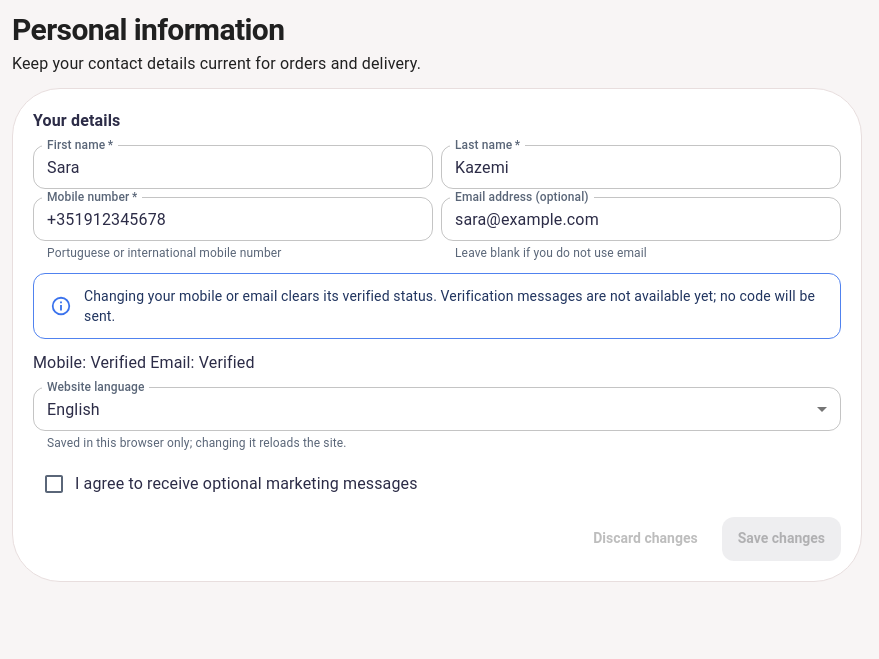
Test: customer information form › validates identity locally before contacting the API
Step 1. Replace the text in the field labelled "Mobile number *" with "not-a-phone" → (233, 219), box [33,199,433,239]
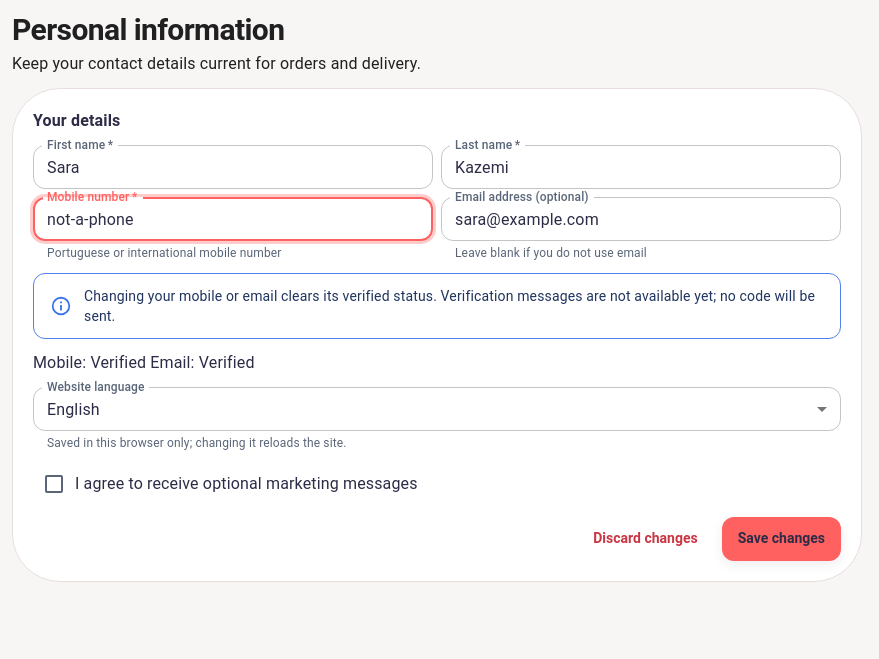
Step 2. Click the button "Save changes" → (781, 539), box [722,517,841,561]
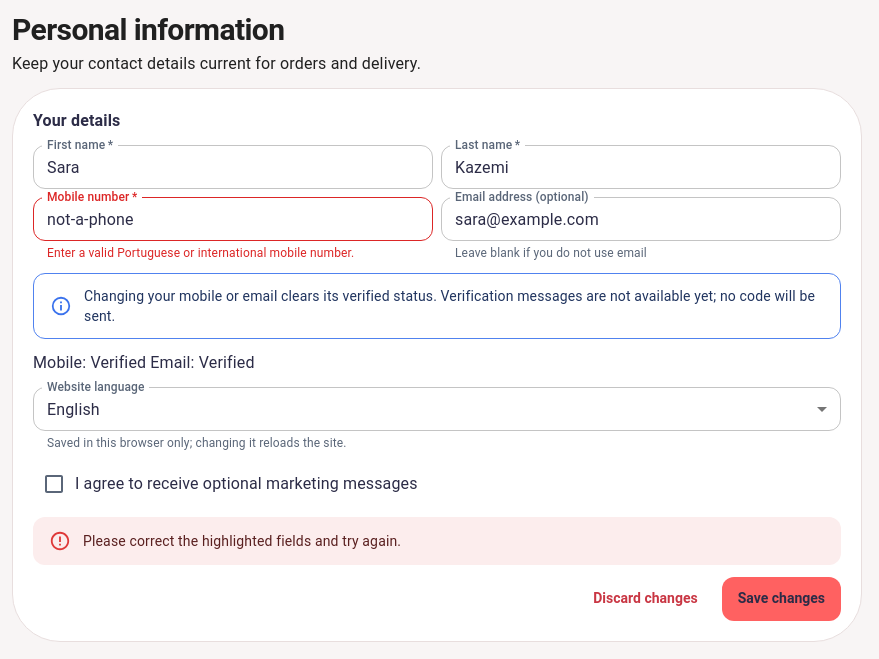
expect the text "Enter a valid Portuguese or international mobile number." is shown: met, box [47,246,354,260]
